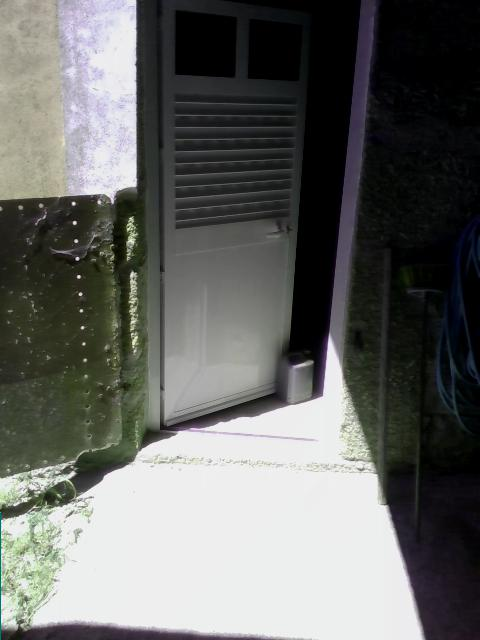semi_door: (139, 2, 372, 433)
